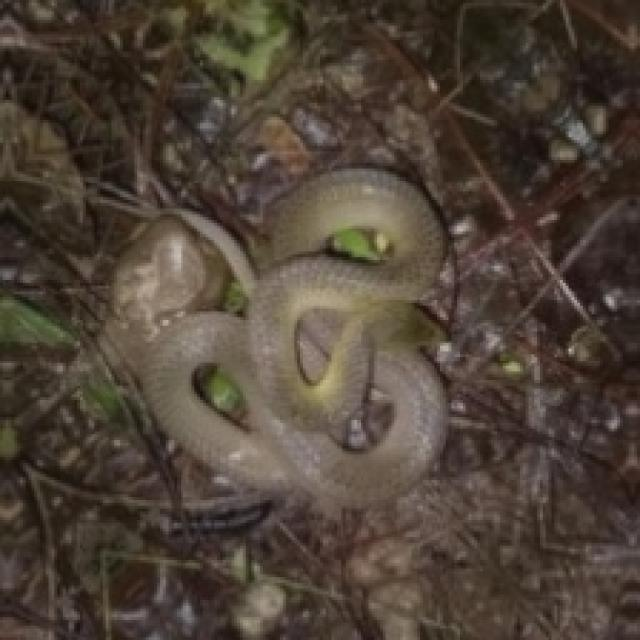gunthers philippine shrub snake: (106, 169, 446, 509)
